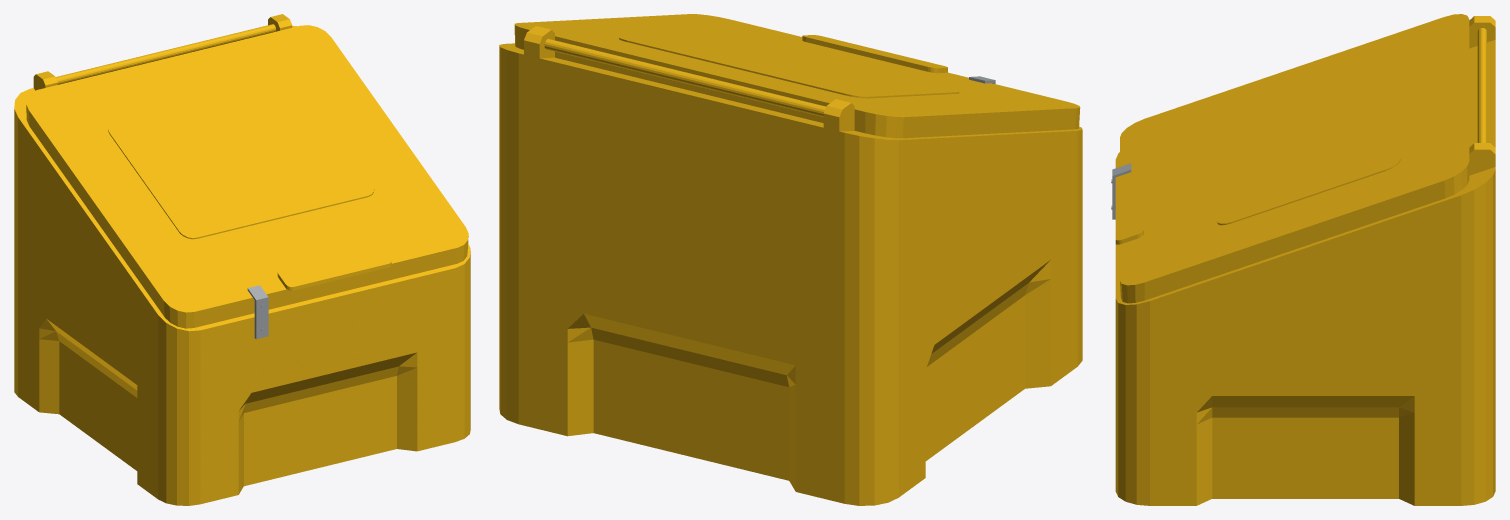
3 renders of one model, left to right at view 1: azimuth 30°, elevation 25°; view 2: azimuth 150°, elevation 25°; view 3: azimuth 270°, elevation 25°, orthographic. The views are drawn at different scales.
Visible parts, largest first — view 1: 01_Closed_molded_body_with_four_corner_feet_and_real_recesse, 02_Thick_closed_sloping_hinged_lid, 03_Shallow_raised_molded_lid_panel, 04_Front_overhanging_lifting_lip, 06_Rear_hinge_axis, 07_Off_center_bent_metal_hasp; view 2: 01_Closed_molded_body_with_four_corner_feet_and_real_recesse, 02_Thick_closed_sloping_hinged_lid, 03_Shallow_raised_molded_lid_panel, 06_Rear_hinge_axis, 04_Front_overhanging_lifting_lip, 05_left_raised_rear_hinge_support, 05_right_raised_rear_hinge_support; view 3: 01_Closed_molded_body_with_four_corner_feet_and_real_recesse, 02_Thick_closed_sloping_hinged_lid, 03_Shallow_raised_molded_lid_panel, 04_Front_overhanging_lifting_lip, 06_Rear_hinge_axis, 05_right_raised_rear_hinge_support, 05_left_raised_rear_hinge_support.
Part boxes in pixels (x1,y1,x2,y2): 01_Closed_molded_body_with_four_corner_feet_and_real_recesse: [14, 26, 470, 505]; 02_Thick_closed_sloping_hinged_lid: [26, 25, 468, 328]; 03_Shallow_raised_molded_lid_panel: [108, 79, 374, 239]; 04_Front_overhanging_lifting_lip: [277, 245, 391, 290]; 06_Rear_hinge_axis: [55, 24, 275, 84]; 07_Off_center_bent_metal_hasp: [247, 285, 268, 339]; 01_Closed_molded_body_with_four_corner_feet_and_real_recesse: [499, 43, 1082, 505]; 02_Thick_closed_sloping_hinged_lid: [514, 14, 1080, 138]; 03_Shallow_raised_molded_lid_panel: [619, 32, 959, 98]; 06_Rear_hinge_axis: [544, 38, 825, 116]; 04_Front_overhanging_lifting_lip: [802, 35, 947, 73]; 05_left_raised_rear_hinge_support: [823, 99, 854, 131]; 05_right_raised_rear_hinge_support: [524, 26, 554, 58]; 01_Closed_molded_body_with_four_corner_feet_and_real_recesse: [1115, 40, 1495, 505]; 02_Thick_closed_sloping_hinged_lid: [1120, 14, 1469, 303]; 03_Shallow_raised_molded_lid_panel: [1217, 63, 1400, 225]; 04_Front_overhanging_lifting_lip: [1115, 176, 1143, 244]; 06_Rear_hinge_axis: [1477, 28, 1486, 142]; 05_right_raised_rear_hinge_support: [1469, 143, 1495, 175]; 05_left_raised_rear_hinge_support: [1469, 16, 1495, 48].
Size of the model in its own units: 0.75 by 0.71 by 0.728.
